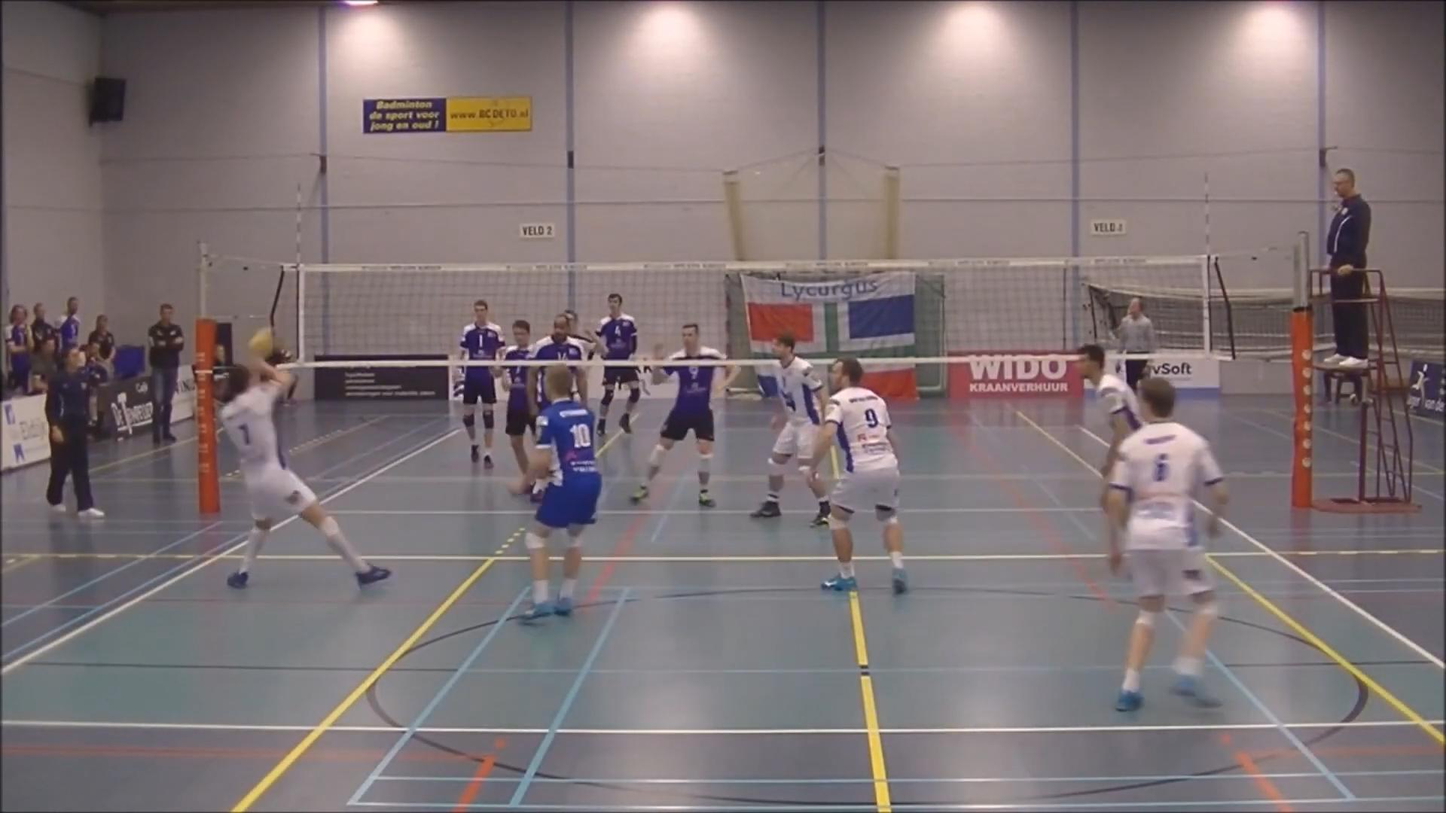Player: (1106, 378, 1227, 711), (811, 358, 907, 593), (514, 366, 601, 622), (631, 323, 737, 507), (751, 331, 829, 526), (1076, 344, 1141, 480), (531, 312, 586, 402), (462, 365, 496, 468), (505, 366, 535, 475), (597, 367, 641, 436), (563, 309, 598, 359)
Receive: (185, 345, 401, 593)
ball: (241, 331, 281, 372)
